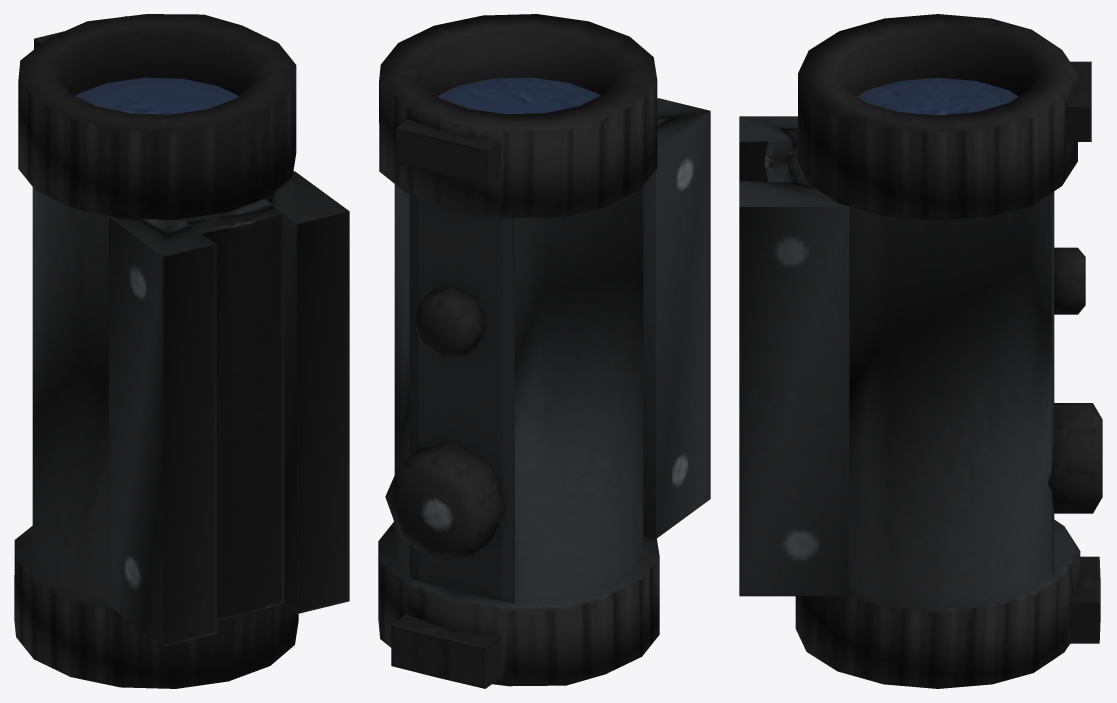
Rendered from TLOG_RedDot.fbx.
3 views of the same model, side by side, from view 1: azimuth 30°, elevation 25°; view 2: azimuth 150°, elevation 25°; view 3: azimuth 270°, elevation 25° (orthographic).
Visible parts, largest first — view 1: reddot1; view 2: reddot1; view 3: reddot1.
Part boxes in pixels (left/top/right/bottom): reddot1: left=14, top=14, right=349, bottom=688; reddot1: left=378, top=14, right=710, bottom=688; reddot1: left=739, top=14, right=1102, bottom=688.
Size of the model in its own units: 0.0218 by 0.0471 by 0.0278.
